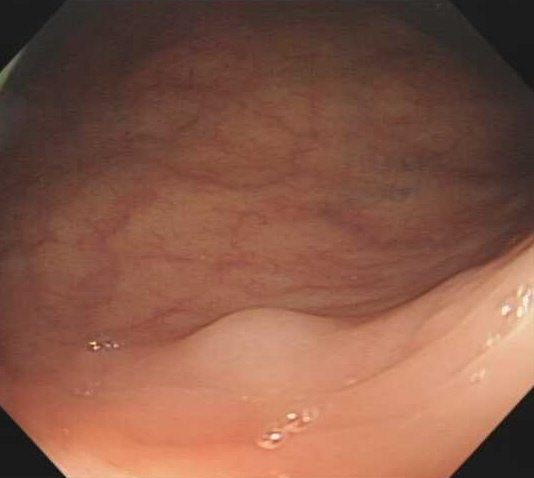others: (180, 302, 343, 354)
